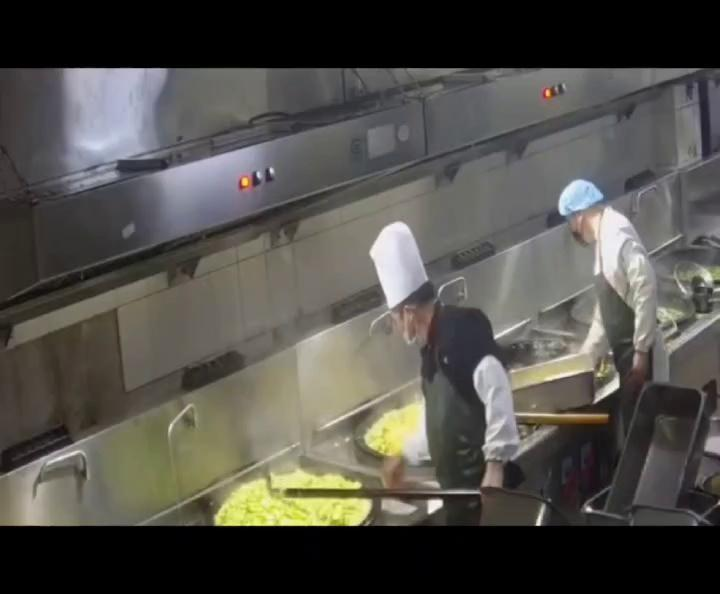mask: (392, 314, 428, 350)
